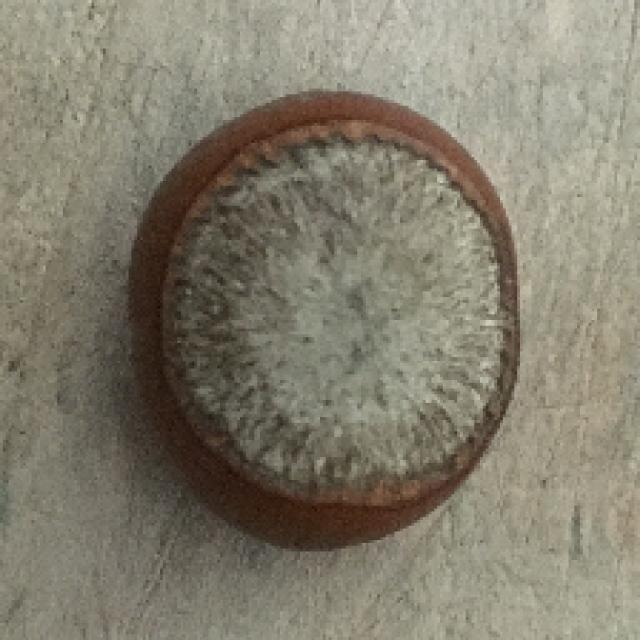QualityHazelnut: (126, 91, 525, 553)
